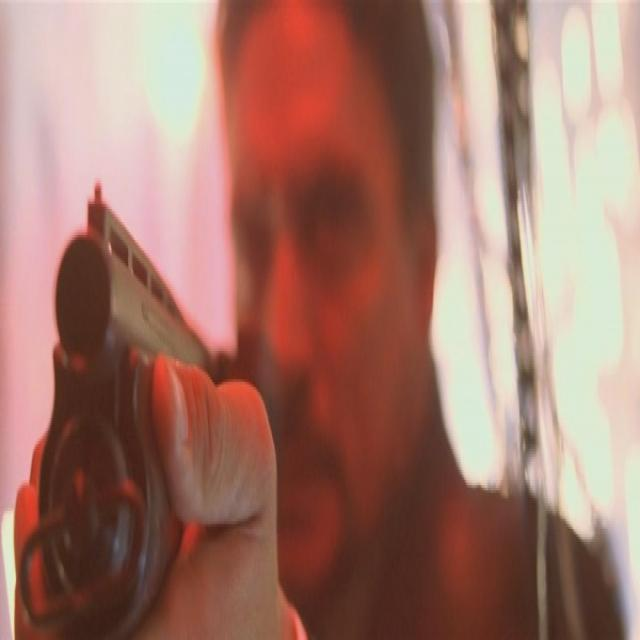rifle: (21, 185, 236, 639)
